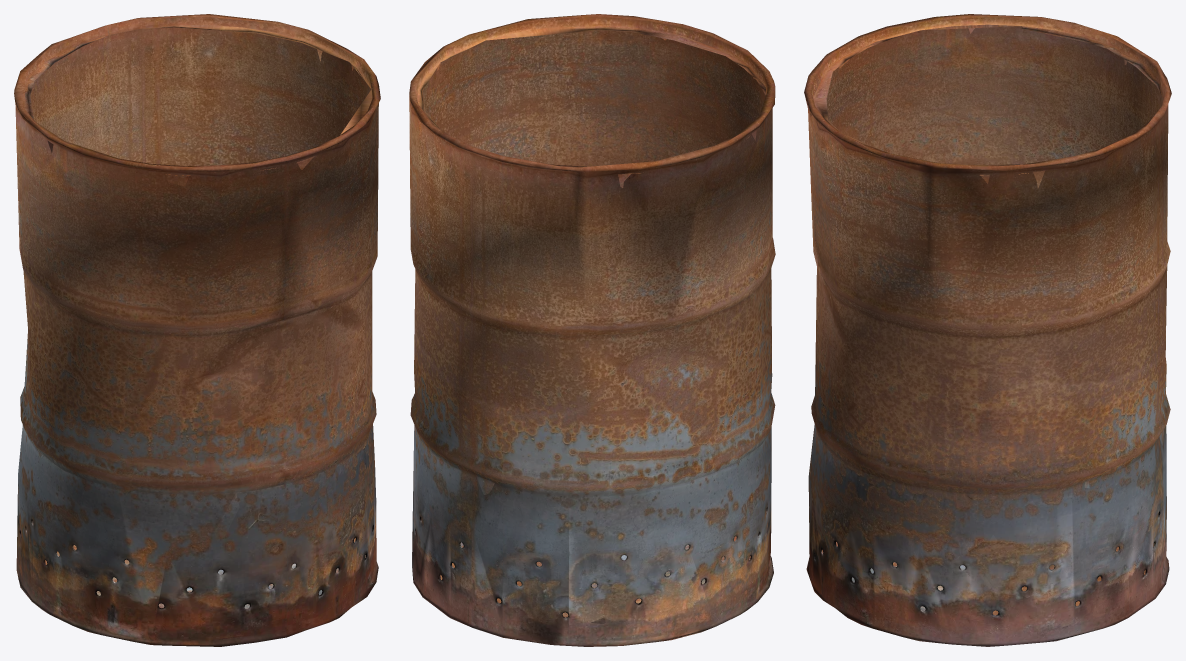
File: barrel_stove.glb
3 views of the same model, side by side, from view 1: azimuth 30°, elevation 25°; view 2: azimuth 150°, elevation 25°; view 3: azimuth 270°, elevation 25° (orthographic).
Visible parts, largest first — view 1: barrel_stove; view 2: barrel_stove; view 3: barrel_stove.
Boxes of the visible parts, left/top/right/bottom form: barrel_stove: left=14, top=14, right=380, bottom=646; barrel_stove: left=409, top=14, right=775, bottom=646; barrel_stove: left=804, top=14, right=1171, bottom=646.
Size of the model in its own units: 0.5886 by 0.8556 by 0.5926.
1 material, 1 textured.
